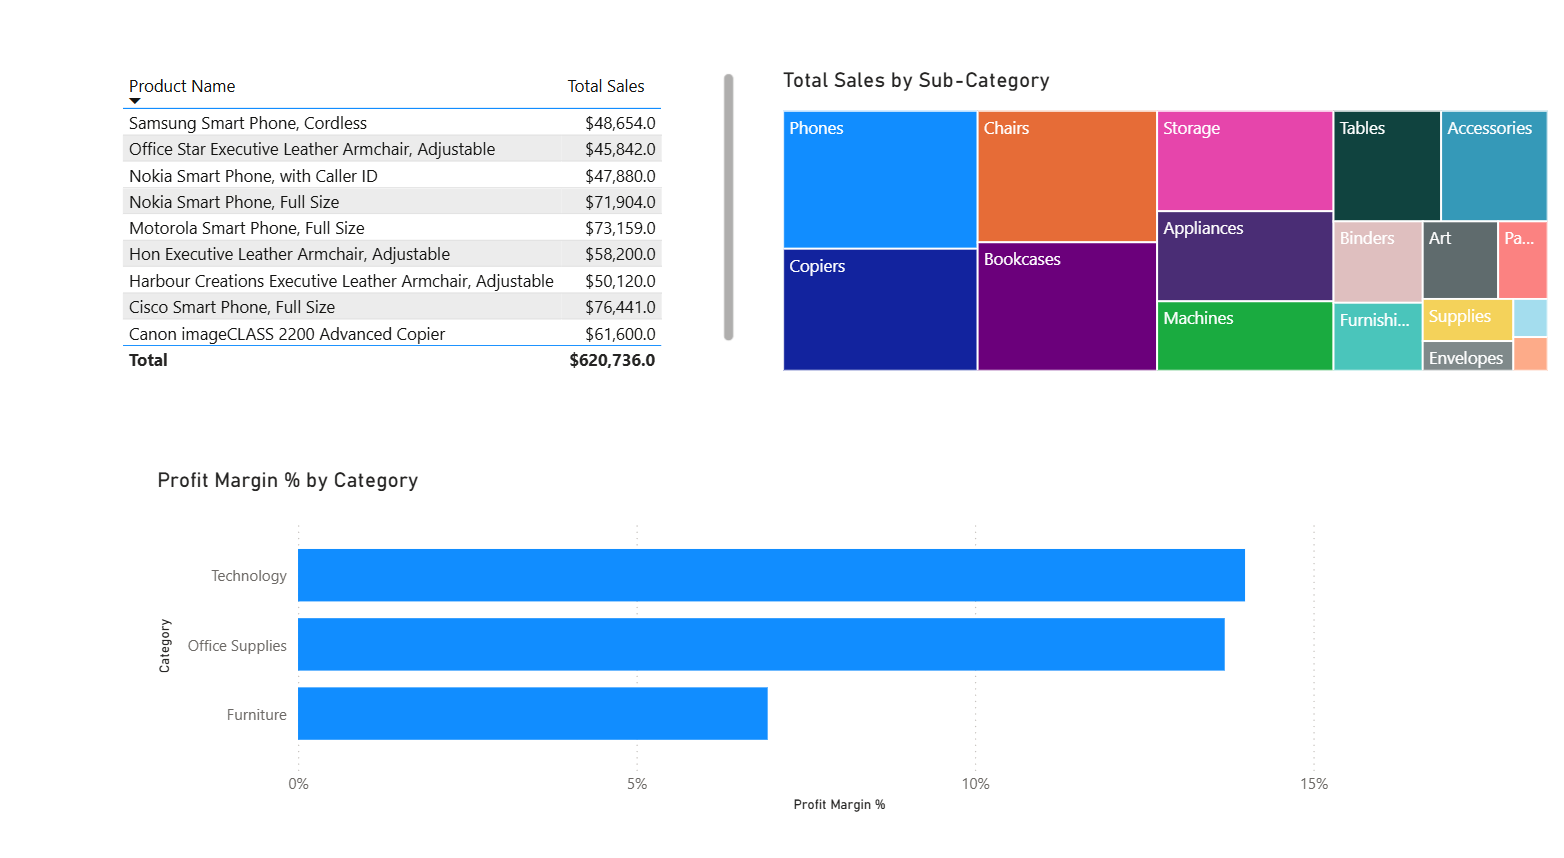

The page's visual inventory and layout, read from the dashboard file:
{"tool":"powerbi","page":{"name":"Product Performance","canvas":[1280,720],"ordinal":3},"visuals":[{"type":"tableEx","fields":{"Values":["Product.Product Name","DAX_Measures.Total Sales"]},"box":[112.5,75.4,499.2,247.8],"z":0},{"type":"barChart","fields":{"Category":["Product.Category"],"Y":["DAX_Measures.Profit Margin %"]},"box":[141.2,395,998.3,280.1],"z":1000},{"type":"treemap","fields":{"Group":["Product.Sub-Category"],"Values":["DAX_Measures.Total Sales"]},"box":[640.4,75.4,620.1,247.8],"z":2000}]}

Visuals, with their boxes in screenshot pixels (x1, y1, x2, y2), scaled from the page's 1280x720 canvas onto the 1564x858 screenshot:
tableEx - Product.Product Name x DAX_Measures.Total Sales: pyautogui.locateOnScreen(137, 90, 747, 385)
barChart - Product.Category x DAX_Measures.Profit Margin %: pyautogui.locateOnScreen(173, 471, 1392, 804)
treemap - Product.Sub-Category x DAX_Measures.Total Sales: pyautogui.locateOnScreen(782, 90, 1540, 385)
